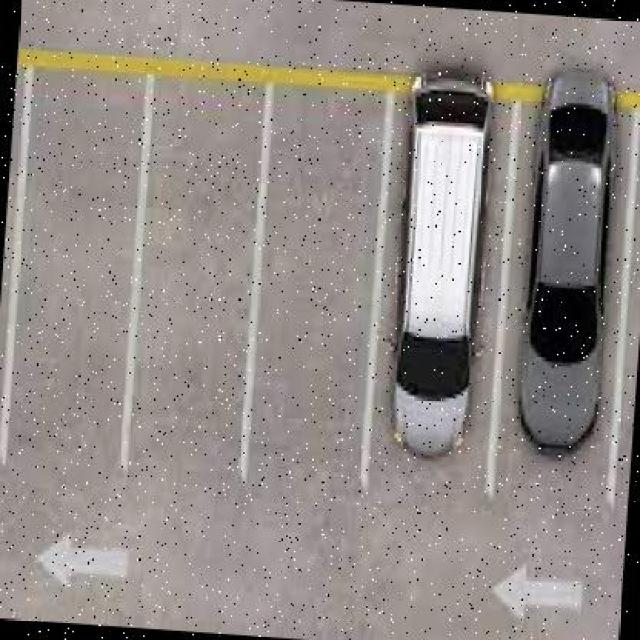Car: (381, 49, 503, 464), (513, 66, 624, 467)
Empty: (246, 86, 389, 490), (9, 69, 146, 478), (127, 83, 267, 481)
